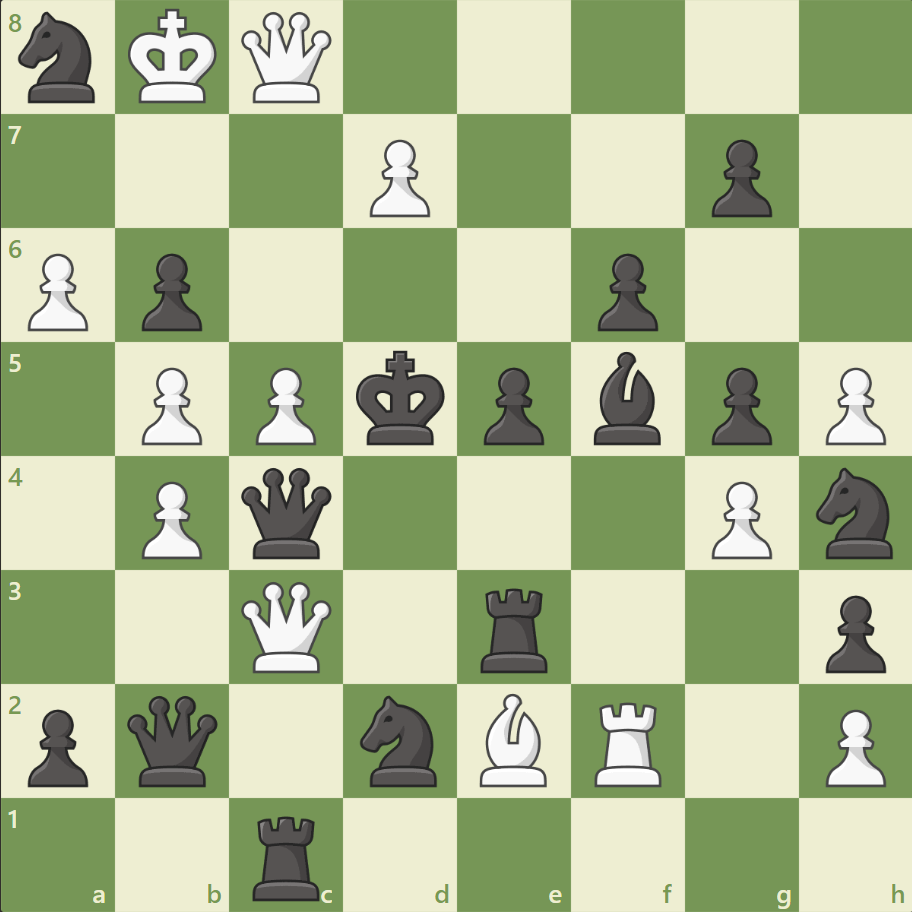B: (471, 687, 555, 790)
K: (124, 4, 224, 112)
P: (20, 246, 95, 337), (133, 359, 208, 450), (247, 359, 322, 450), (133, 473, 208, 564), (701, 473, 776, 564), (361, 132, 435, 223), (815, 359, 889, 450), (815, 700, 889, 791)
Q: (237, 576, 336, 676), (237, 9, 336, 108)
R: (587, 693, 670, 790)
b: (585, 347, 669, 449)
k: (351, 344, 451, 452)
n: (351, 688, 449, 791), (11, 7, 108, 110), (806, 461, 903, 564)
p: (701, 132, 776, 223), (133, 246, 208, 337), (474, 359, 549, 450), (701, 359, 776, 450), (20, 700, 95, 791), (588, 246, 662, 337), (815, 586, 889, 677)
q: (237, 463, 336, 562), (124, 690, 223, 789)
r: (246, 806, 329, 904), (473, 579, 556, 676)
